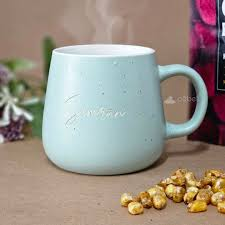mug: (11, 29, 206, 195)
